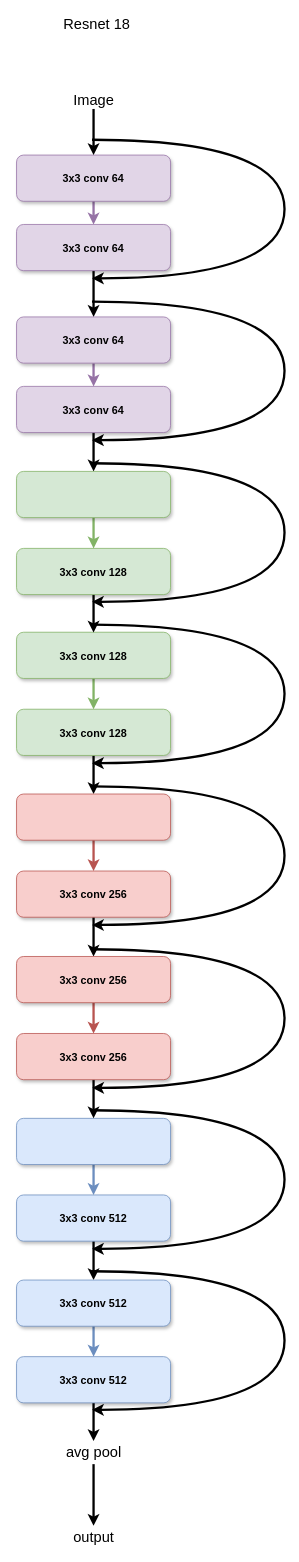
Image size: 299x1562. Some labels were removed from this diagram. The centre of each missing label's shape, as x and y in pixels:
"3x3 conv 128, /2" belongs at (94,495).
"3x3 conv 256, /2" belongs at (94,818).
"3x3 conv 512, /2" belongs at (94,1142).
